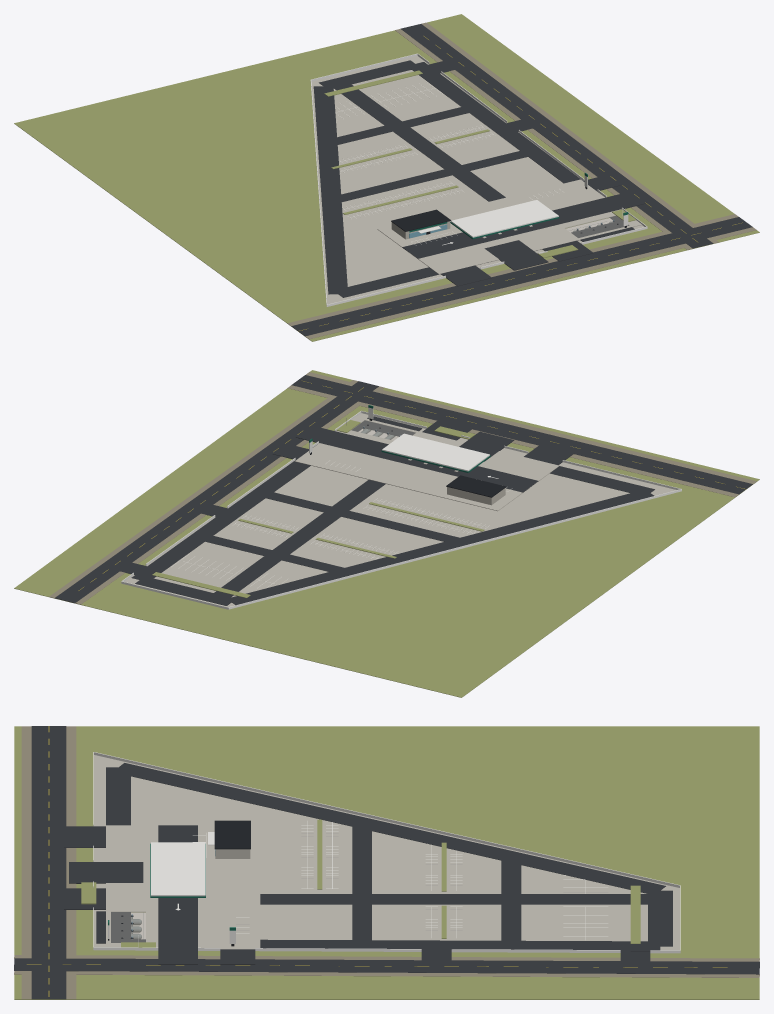
Rendered from estacion-servicio-lote-I-A1.glb.
3 views of the same model, one above another, from view 1: azimuth 30°, elevation 25°; view 2: azimuth 150°, elevation 25°; view 3: azimuth 270°, elevation 25° (orthographic). The views are drawn at different scales.
Visible parts, largest first — view 1: terreno, lote_I_A1_pavimentado, ruta_Y50, camino_este, anillo_4, plataforma_oeste, anillo_2, via_paso_central, espina_central, marquesina_cubierta, berma_sur, berma_este_2 (+11 smaller); view 2: terreno, lote_I_A1_pavimentado, ruta_Y50, camino_este, plataforma_oeste, anillo_4, anillo_2, via_paso_central, espina_central, marquesina_cubierta, berma_sur, calle_transversal_1 (+12 smaller); view 3: terreno, lote_I_A1_pavimentado, ruta_Y50, camino_este, plataforma_oeste, anillo_4, espina_central, anillo_2, via_paso_central, marquesina_cubierta, berma_este_2, berma_sur (+17 smaller).
Part boxes in pixels (x1,y1,x2,y2): terreno: [14, 14, 759, 341]; lote_I_A1_pavimentado: [311, 56, 644, 304]; ruta_Y50: [291, 217, 752, 336]; camino_este: [400, 24, 713, 248]; anillo_4: [313, 86, 348, 294]; plataforma_oeste: [377, 194, 579, 274]; anillo_2: [407, 62, 621, 221]; via_paso_central: [402, 192, 641, 258]; espina_central: [330, 81, 505, 201]; marquesina_cubierta: [451, 200, 558, 237]; berma_sur: [305, 227, 756, 339]; berma_este_2: [421, 22, 718, 243]; terreno: [14, 370, 759, 697]; lote_I_A1_pavimentado: [124, 413, 676, 607]; ruta_Y50: [291, 375, 752, 494]; camino_este: [55, 381, 378, 603]; plataforma_oeste: [356, 431, 559, 511]; anillo_4: [232, 489, 654, 605]; anillo_2: [131, 423, 367, 581]; via_paso_central: [299, 426, 538, 492]; espina_central: [214, 479, 385, 600]; marquesina_cubierta: [382, 433, 489, 471]; berma_sur: [306, 372, 756, 483]; calle_transversal_1: [255, 490, 465, 544]; terreno: [14, 726, 759, 999]; lote_I_A1_pavimentado: [94, 755, 679, 950]; ruta_Y50: [31, 726, 66, 999]; camino_este: [14, 958, 759, 974]; plataforma_oeste: [106, 825, 260, 912]; anillo_4: [115, 763, 665, 893]; espina_central: [260, 894, 659, 904]; anillo_2: [119, 939, 660, 951]; via_paso_central: [158, 825, 197, 961]; marquesina_cubierta: [151, 842, 205, 896]; berma_este_2: [14, 971, 759, 977]; berma_sur: [21, 726, 31, 999].
Bounding box in the file's own units: 260 × 13.4 × 300.
